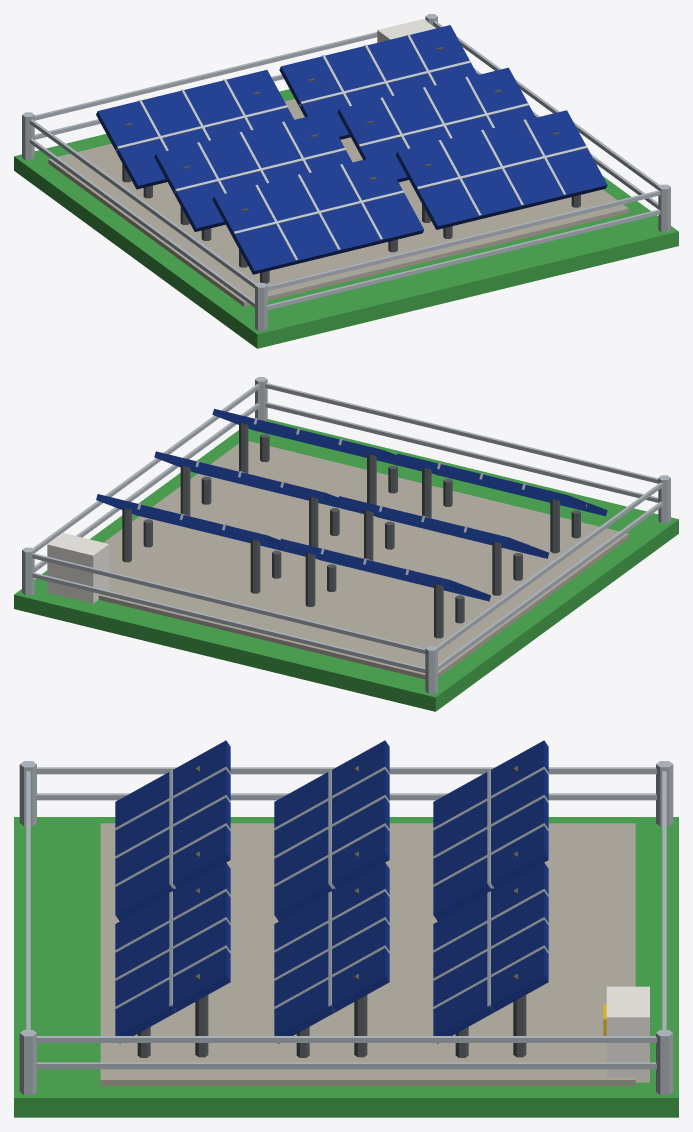
The model's file is sc-solar-DkY4erLT.glb.
The picture shows the model from 3 angles, top to bottom: view 1: azimuth 30°, elevation 25°; view 2: azimuth 150°, elevation 25°; view 3: azimuth 270°, elevation 25°; orthographic projection. The views are drawn at different scales.
Parts seen in each view (by area): view 1: sc-solar; view 2: sc-solar; view 3: sc-solar.
Boxes of the visible parts, x1=… form: sc-solar: x1=14, y1=14, x2=678, y2=348; sc-solar: x1=14, y1=377, x2=678, y2=711; sc-solar: x1=14, y1=740, x2=678, y2=1117.
Size of the model in its own units: 0.92 by 0.1842 by 0.92.
